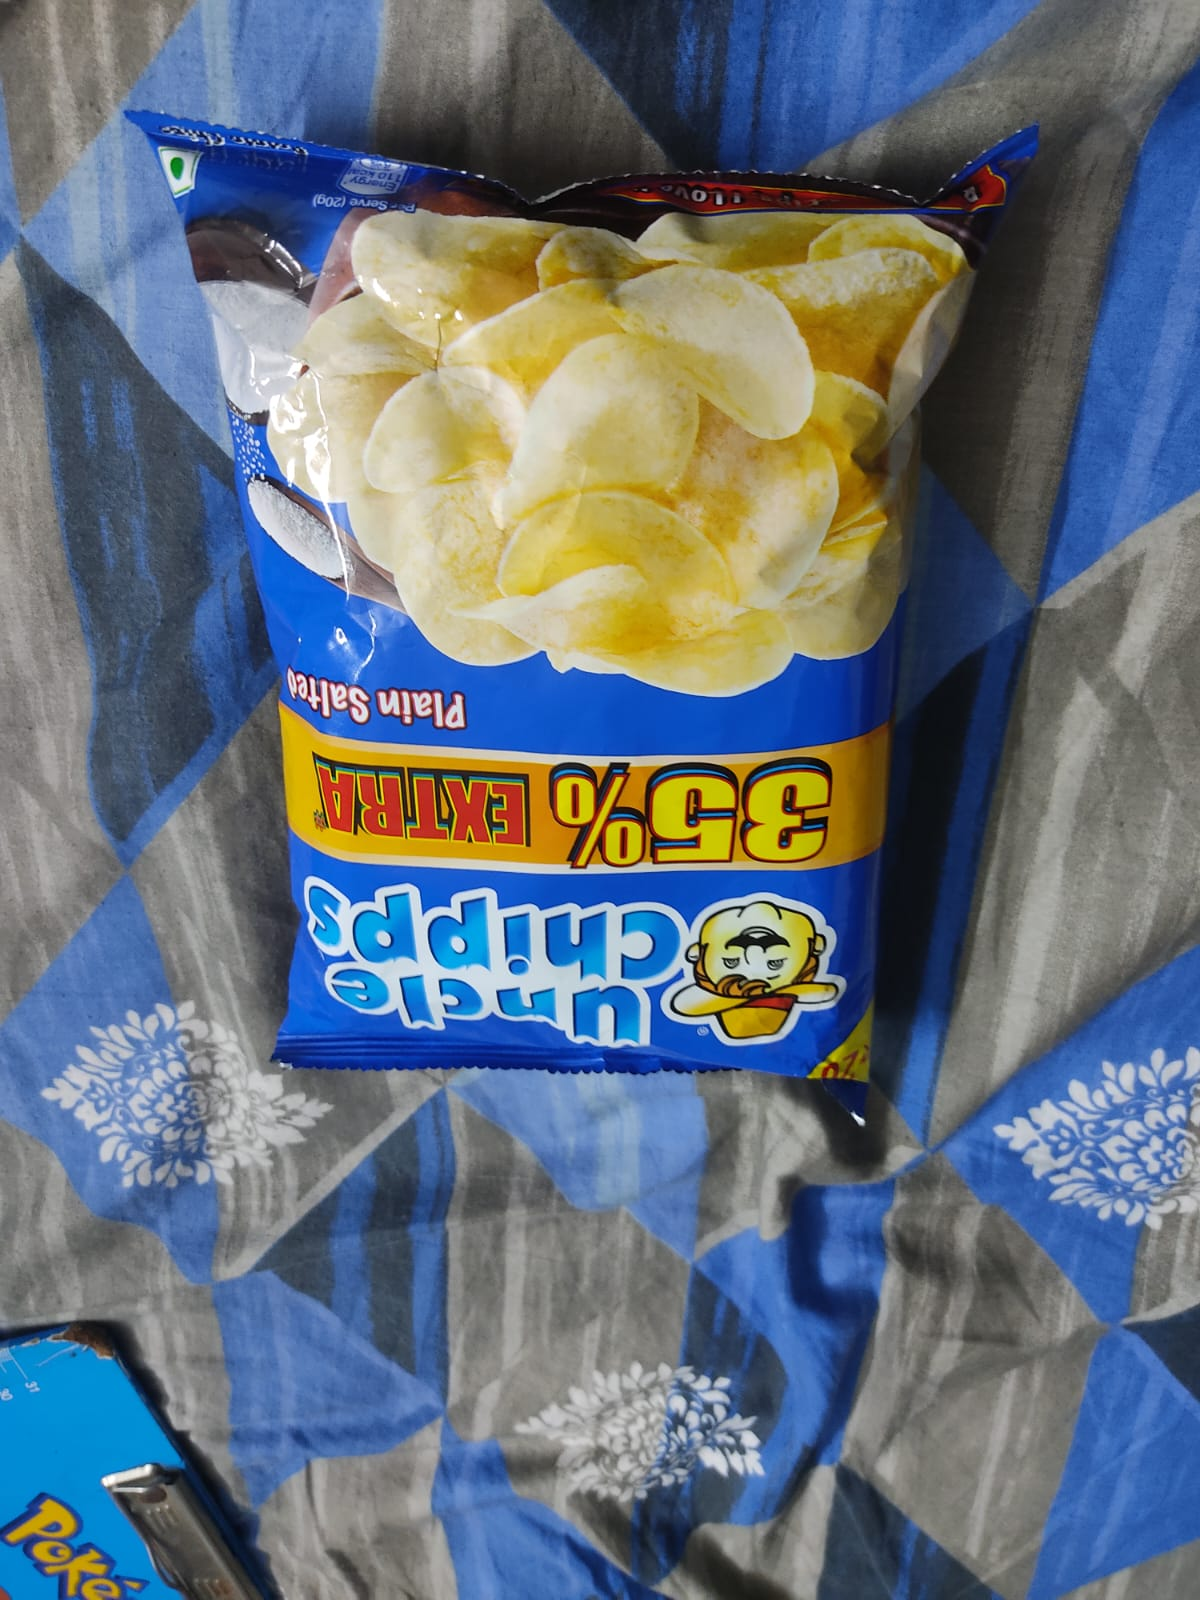020_UncleChips: (221, 195, 943, 1078)
